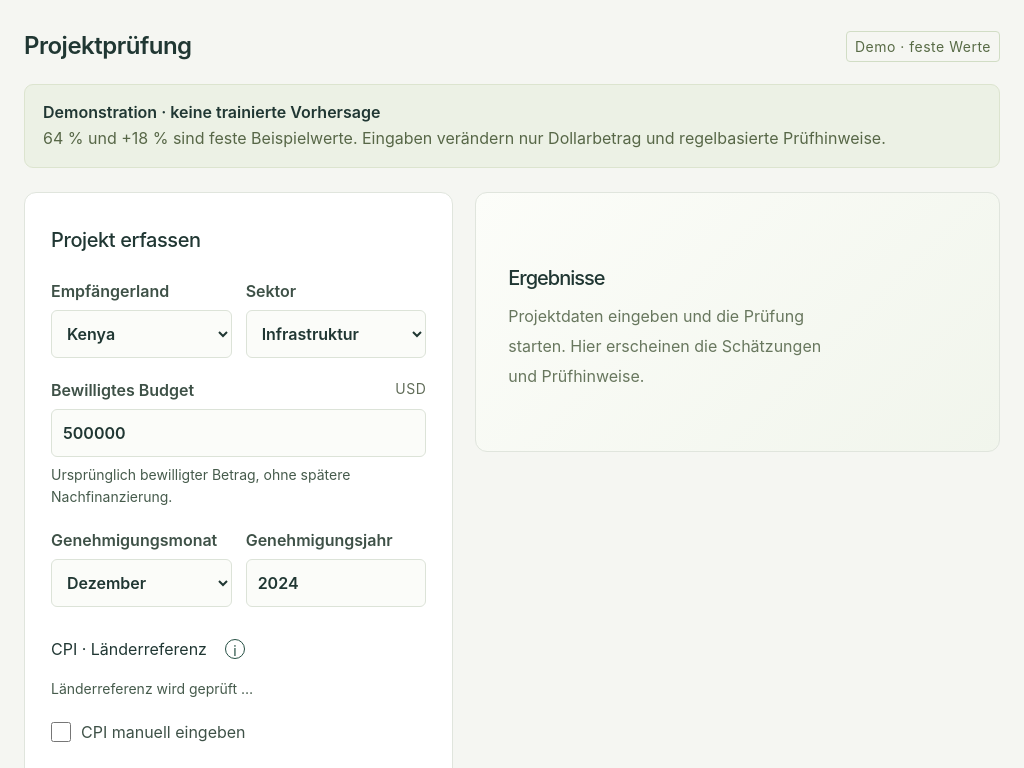
Test case: announces safe CPI reset after changing Genehmigungsmonat
Click the checkbox labelled "CPI manuell eingeben": coordinates (61, 732) [51,722,71,742]
(page scrolled)
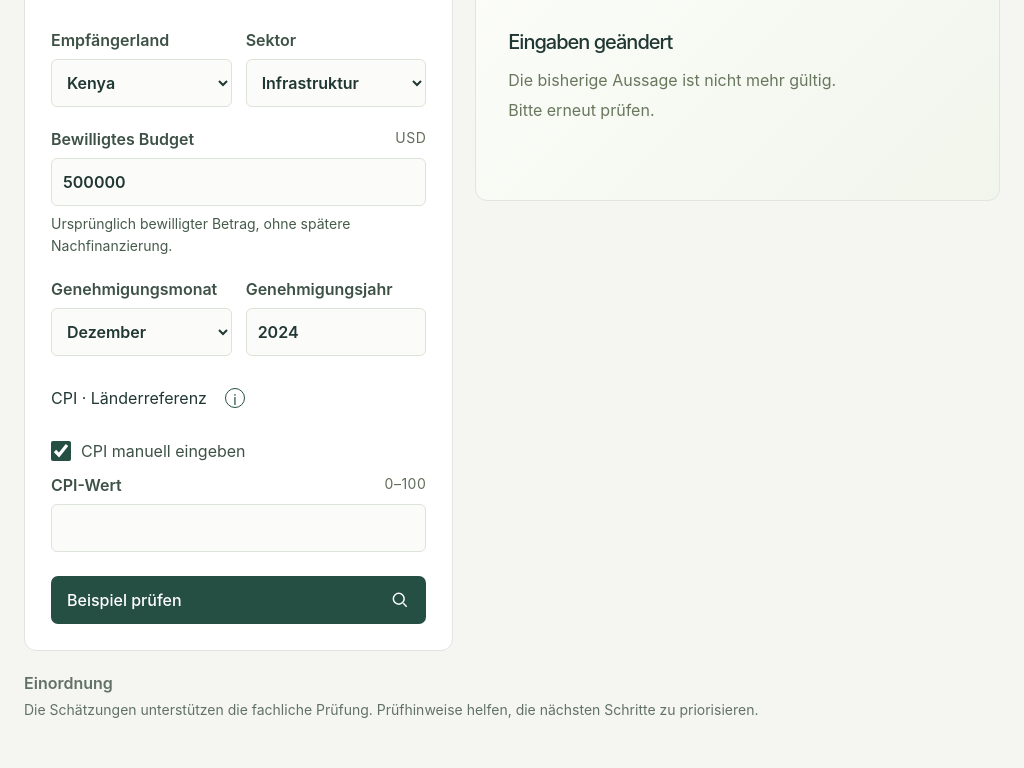
In the number field labelled "CPI-Wert 0–100": coordinates (239, 528) [51,504,426,552], type "31"
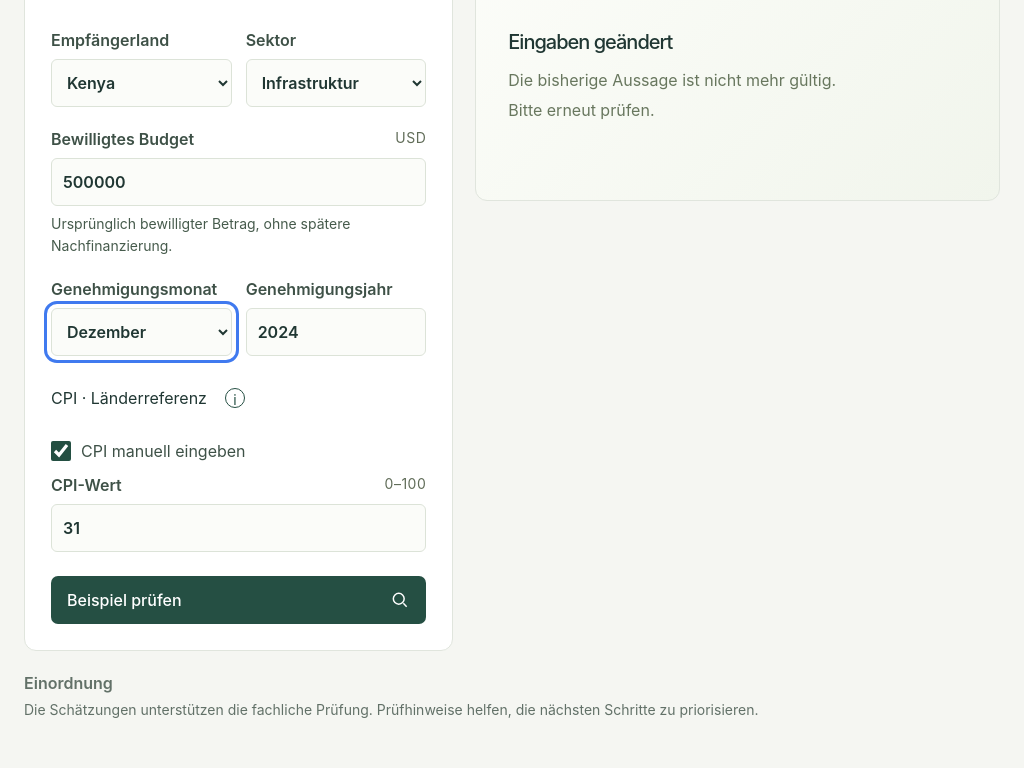
Select "November" in the dropdown labelled "Genehmigungsmonat": coordinates (141, 332) [51,308,232,356]
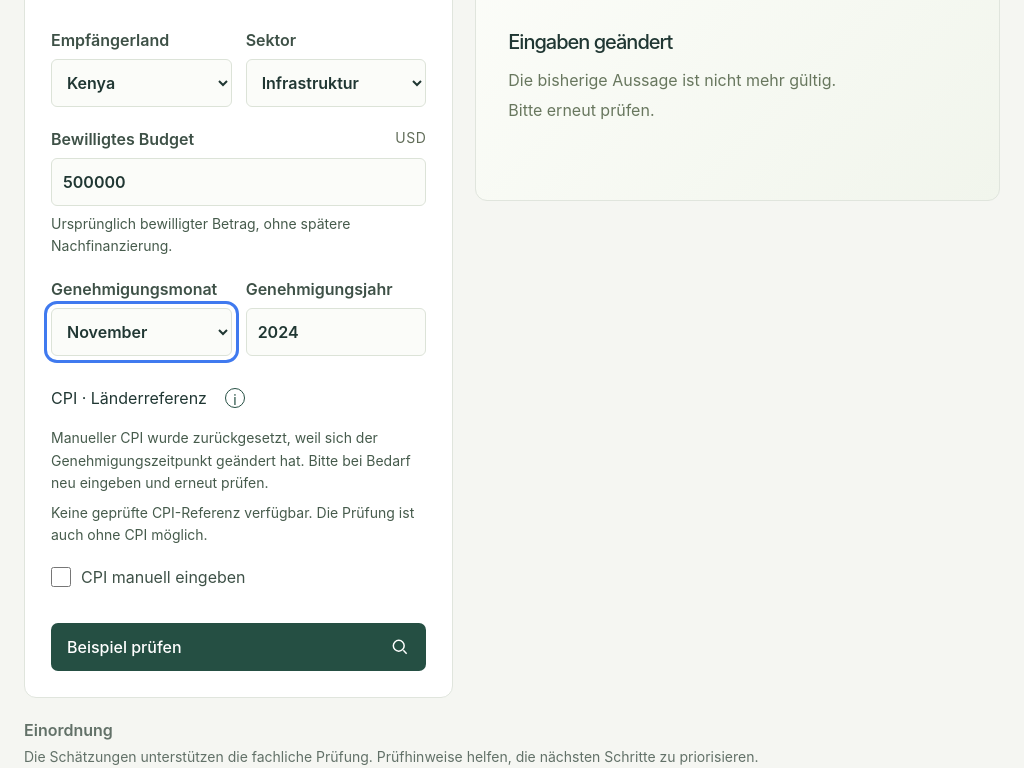
Expected: the checkbox labelled "CPI manuell eingeben" is not checked, [51,567,71,587]
Expected: the text "Manueller CPI wurde zurückgesetzt" shows "Genehmigungszeitpunkt", [51,429,411,491]
Expected: the label labelled "CPI-Wert" is gone
